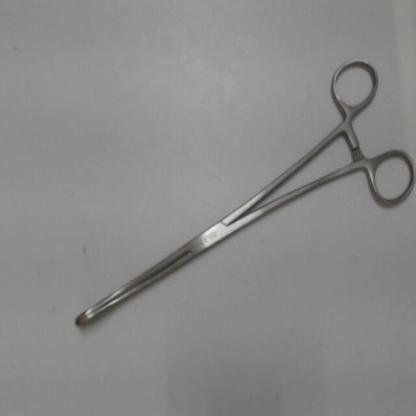Sponge Forceps: (63, 50, 415, 337)
